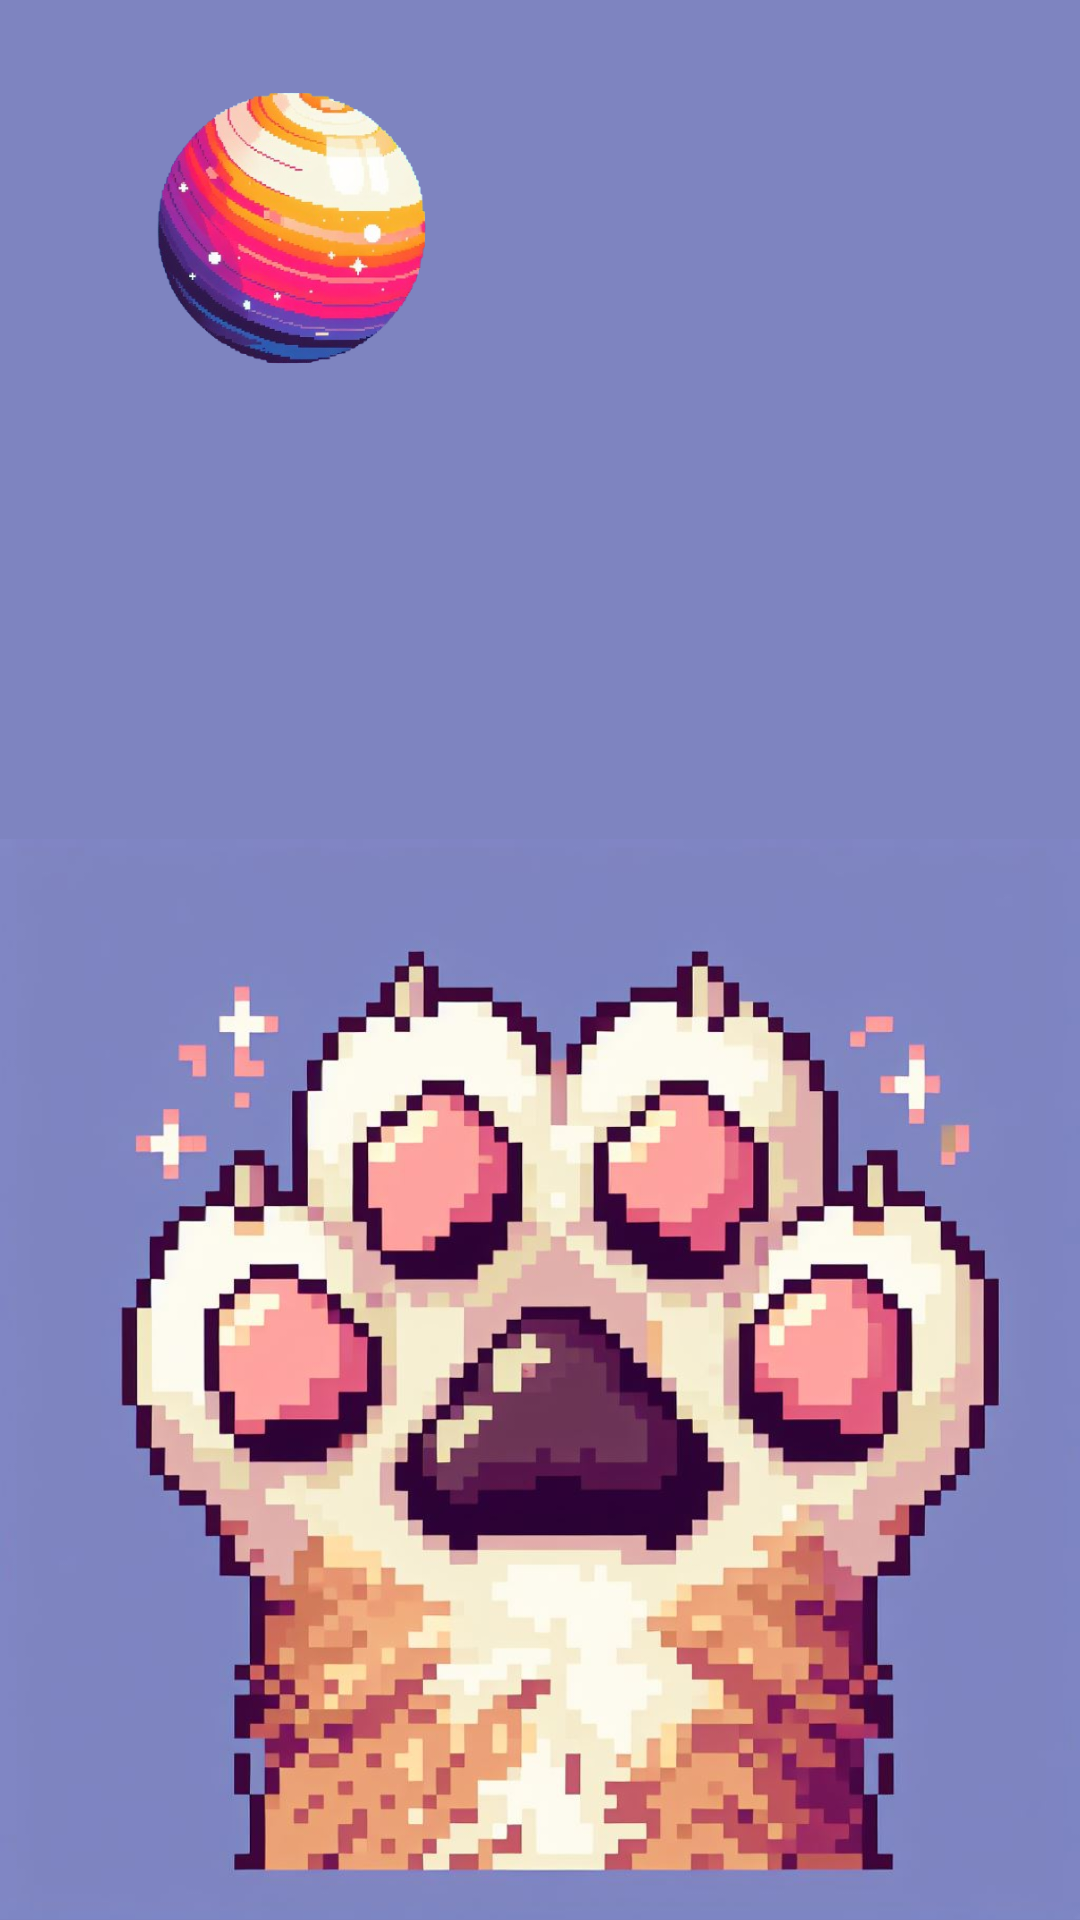

Icon bounding boxes for this 1080w x 1920h phone screenshot, format bbox=[x1, y1, x2, y2]:
ball: bbox=[158, 93, 426, 363]
